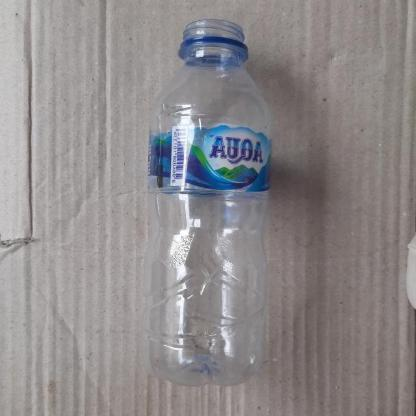Plastic Bottle: (146, 19, 274, 387)
